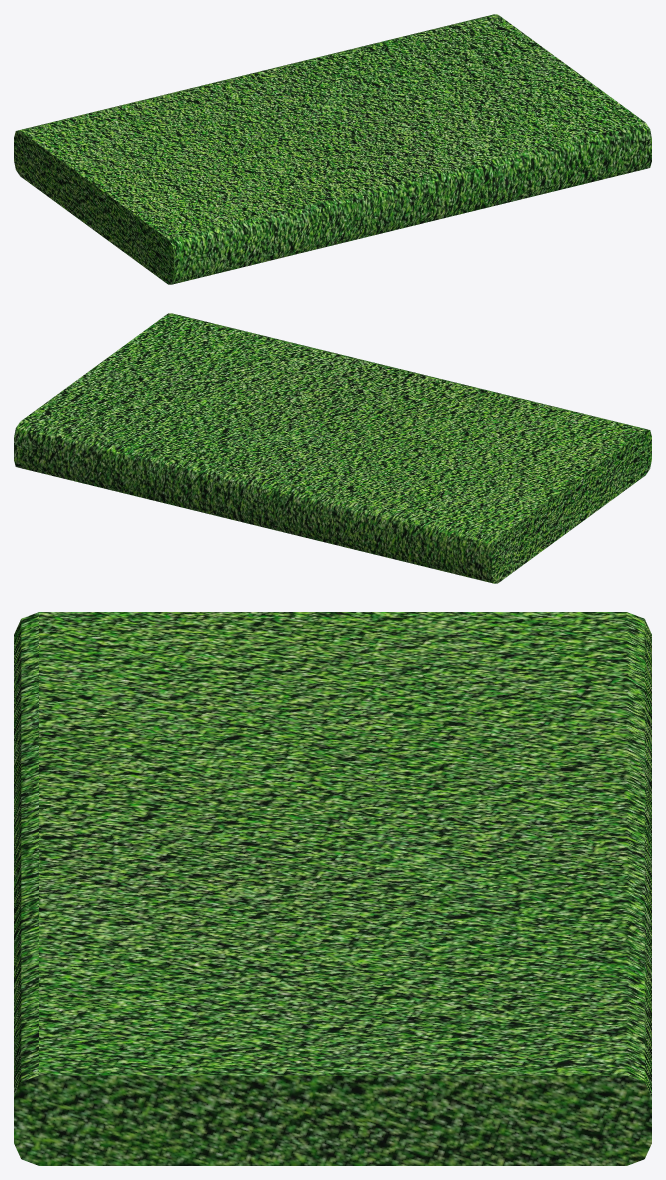
Rendered from tapaFragmento.fbx.
The picture shows the model from 3 angles, top to bottom: view 1: azimuth 30°, elevation 25°; view 2: azimuth 150°, elevation 25°; view 3: azimuth 270°, elevation 25°; orthographic projection. The views are drawn at different scales.
Parts seen in each view (by area): view 1: tapaPlataforma; view 2: tapaPlataforma; view 3: tapaPlataforma.
Boxes of the visible parts, box(x1,y1,x2,y2) form: tapaPlataforma: box(14, 14, 651, 284); tapaPlataforma: box(14, 313, 651, 583); tapaPlataforma: box(14, 612, 651, 1165).
Bounding box in the file's own units: 5.5 × 0.5 × 3.2.
Materials: 1 (1 with a texture image).
